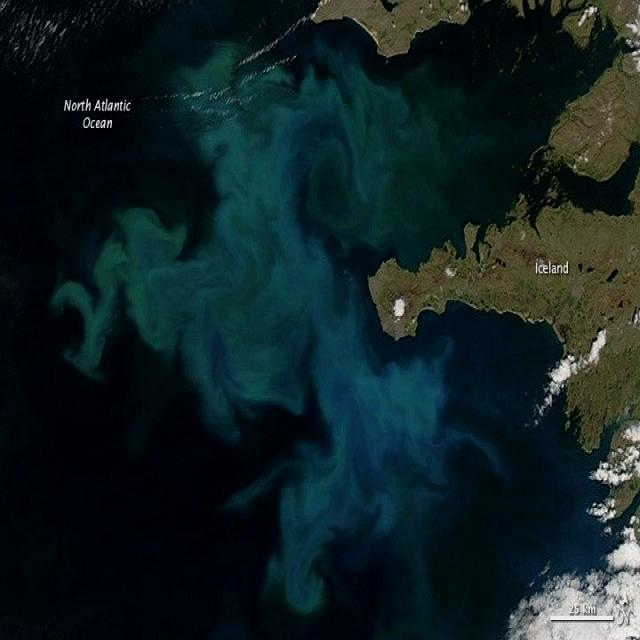oil spill: (55, 71, 444, 613), (182, 74, 355, 413), (269, 302, 444, 613), (372, 82, 495, 218), (60, 255, 178, 349)
